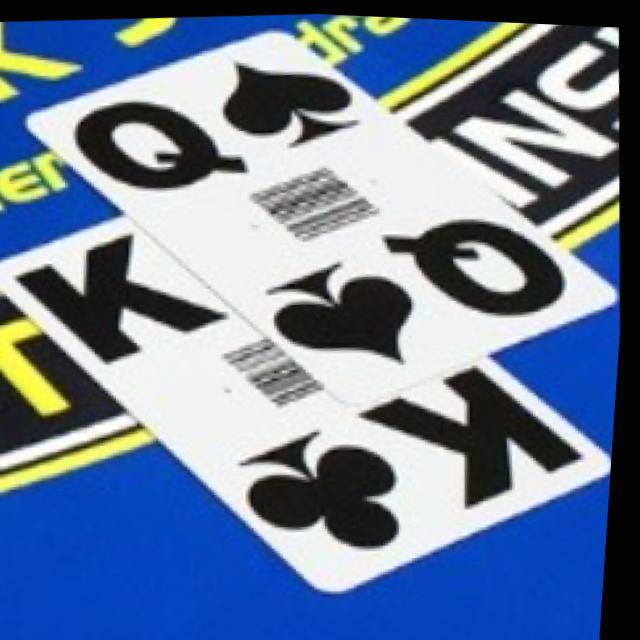Card-K: (0, 215, 617, 591)
Card-Q: (26, 25, 620, 402)
